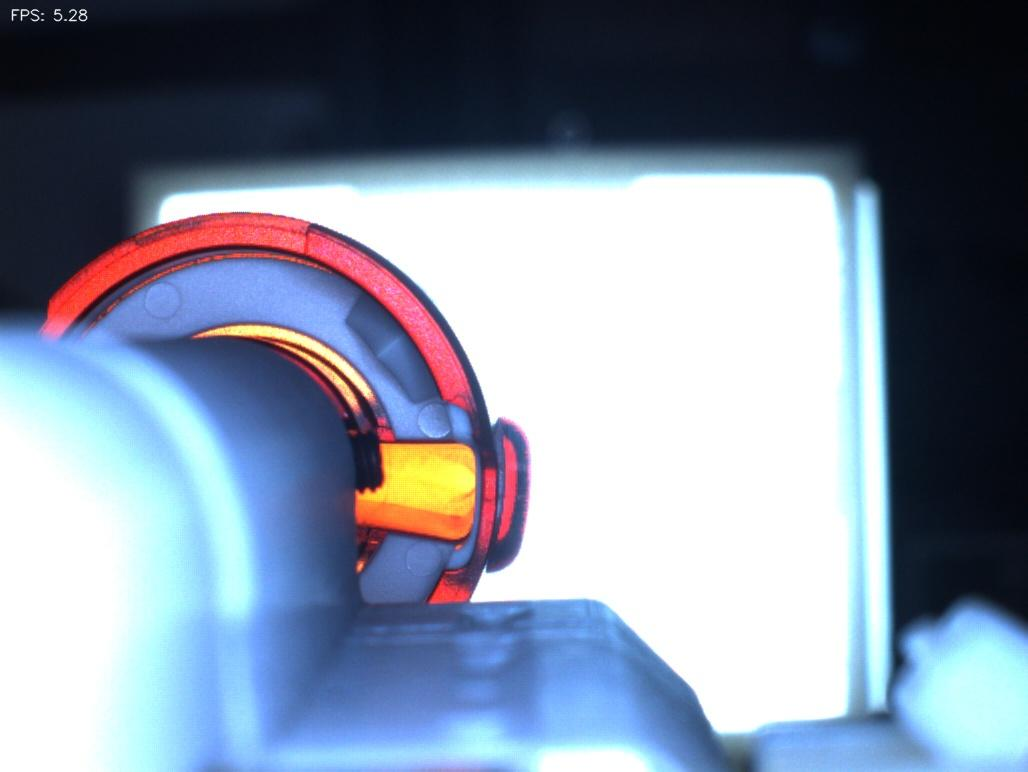Retassure: (383, 442, 481, 515)
